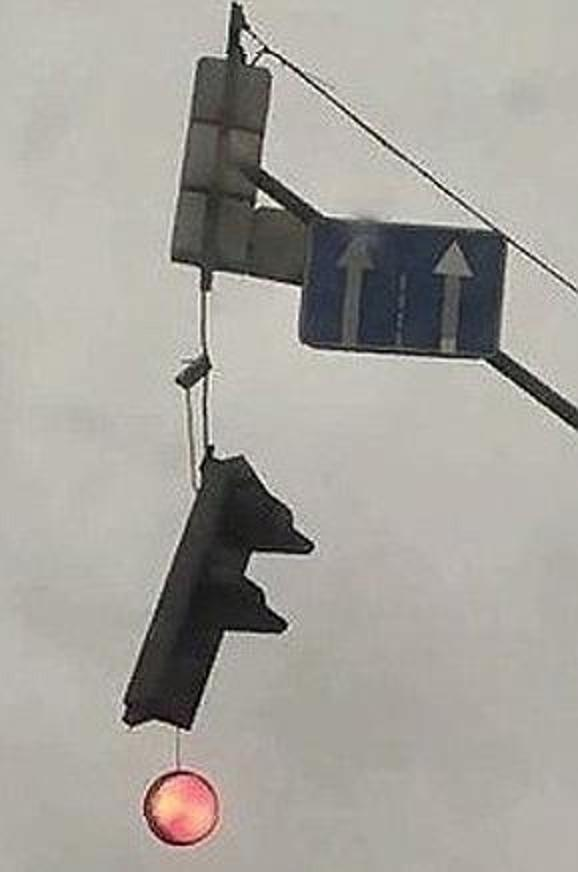off traffic light: (122, 446, 314, 846)
road_sign: (299, 217, 506, 359)
